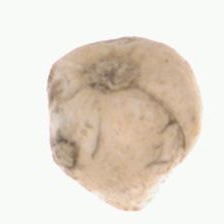L4: (46, 37, 203, 211)
